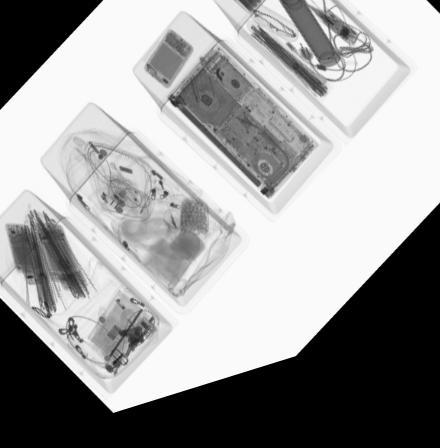Powerbank: (220, 0, 268, 33)
